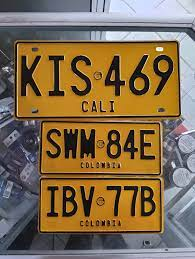placa_carro: (14, 38, 182, 120)
placa_moto: (36, 177, 165, 232), (41, 120, 163, 177)
